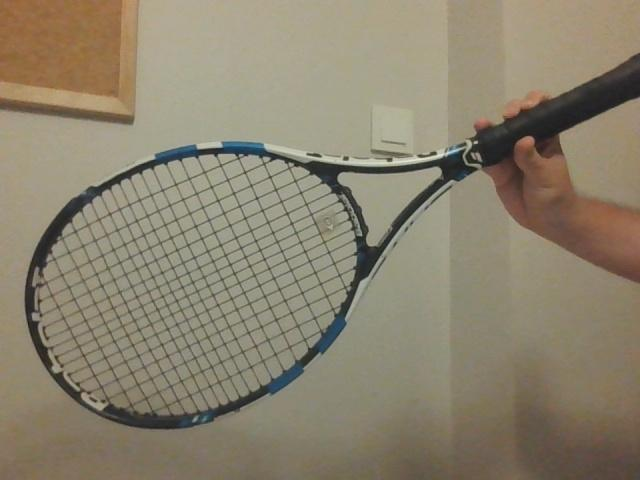Tennis-Racket: (24, 50, 640, 428)
